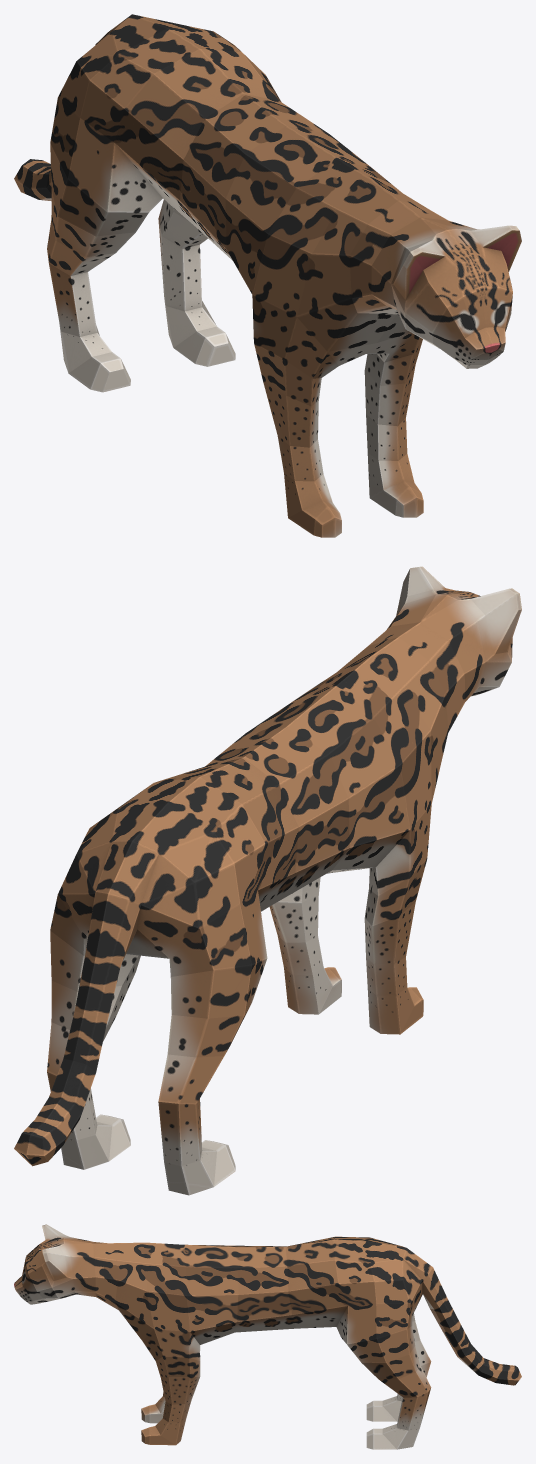
Rendered from ocelot.glb.
3 views of the same model, one above another, from view 1: azimuth 30°, elevation 25°; view 2: azimuth 150°, elevation 25°; view 3: azimuth 270°, elevation 25° (orthographic). The views are drawn at different scales.
Parts seen in each view (by area): view 1: Object_2; view 2: Object_2; view 3: Object_2.
Boxes of the visible parts, x1,y1,x2,y2 form: Object_2: [14, 14, 521, 537]; Object_2: [14, 566, 521, 1195]; Object_2: [14, 1224, 521, 1449].
Size of the model in its own units: 2.92 by 5.31 by 12.63.
1 material, 1 textured.
